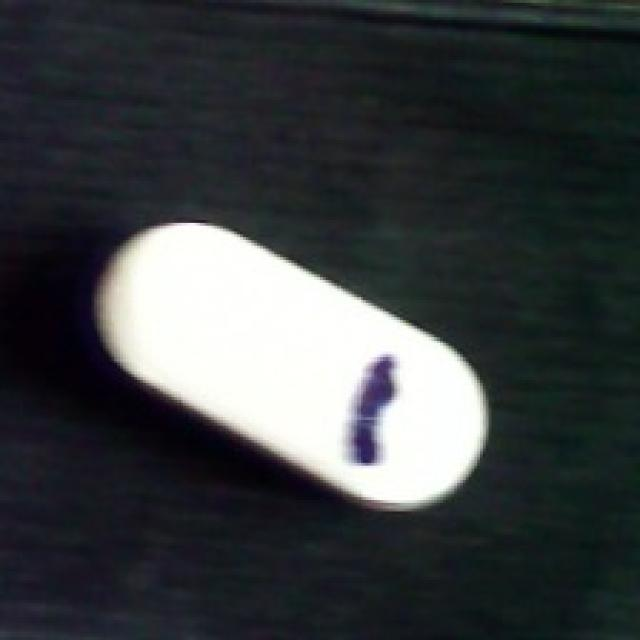defected: (86, 218, 497, 512)
